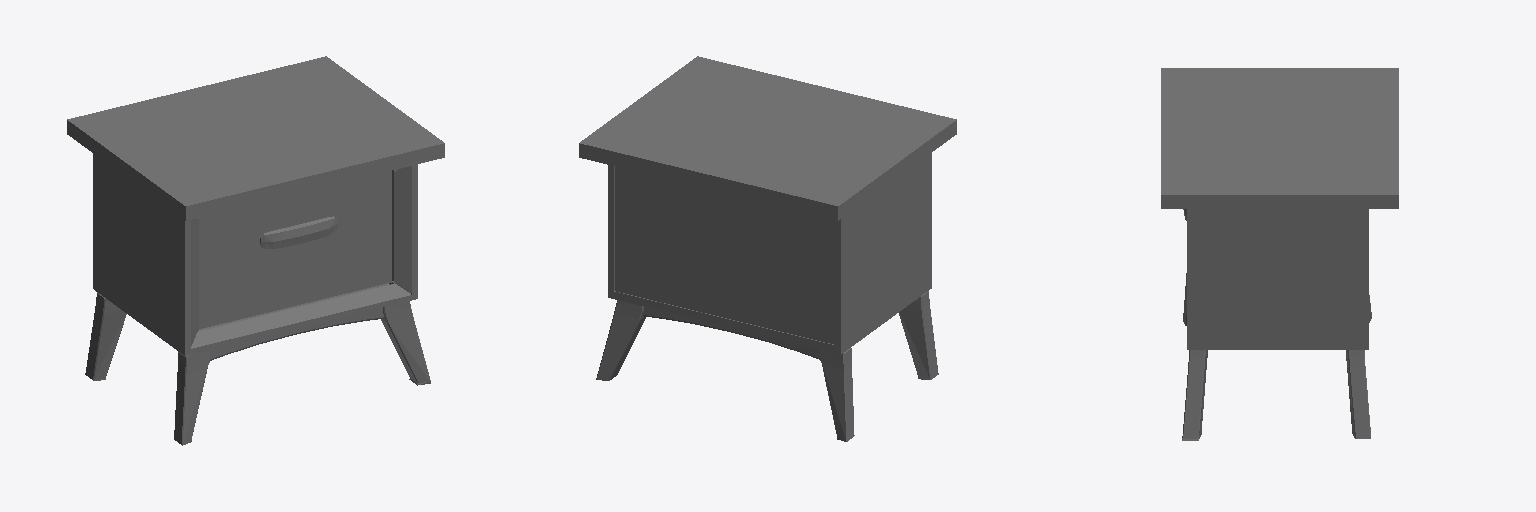
3 renders of one model, left to right at view 1: azimuth 30°, elevation 25°; view 2: azimuth 150°, elevation 25°; view 3: azimuth 270°, elevation 25°, orthographic.
Parts seen in each view (by area): view 1: mesanoche:Mesh_pasted__polySurface2; view 2: mesanoche:Mesh_pasted__polySurface2; view 3: mesanoche:Mesh_pasted__polySurface2.
Boxes of the visible parts, <box> form: mesanoche:Mesh_pasted__polySurface2: <box>67,56,444,445</box>; mesanoche:Mesh_pasted__polySurface2: <box>579,56,956,441</box>; mesanoche:Mesh_pasted__polySurface2: <box>1161,68,1398,440</box>.
Size of the model in its own units: 0.9259 by 0.8497 by 0.7334.